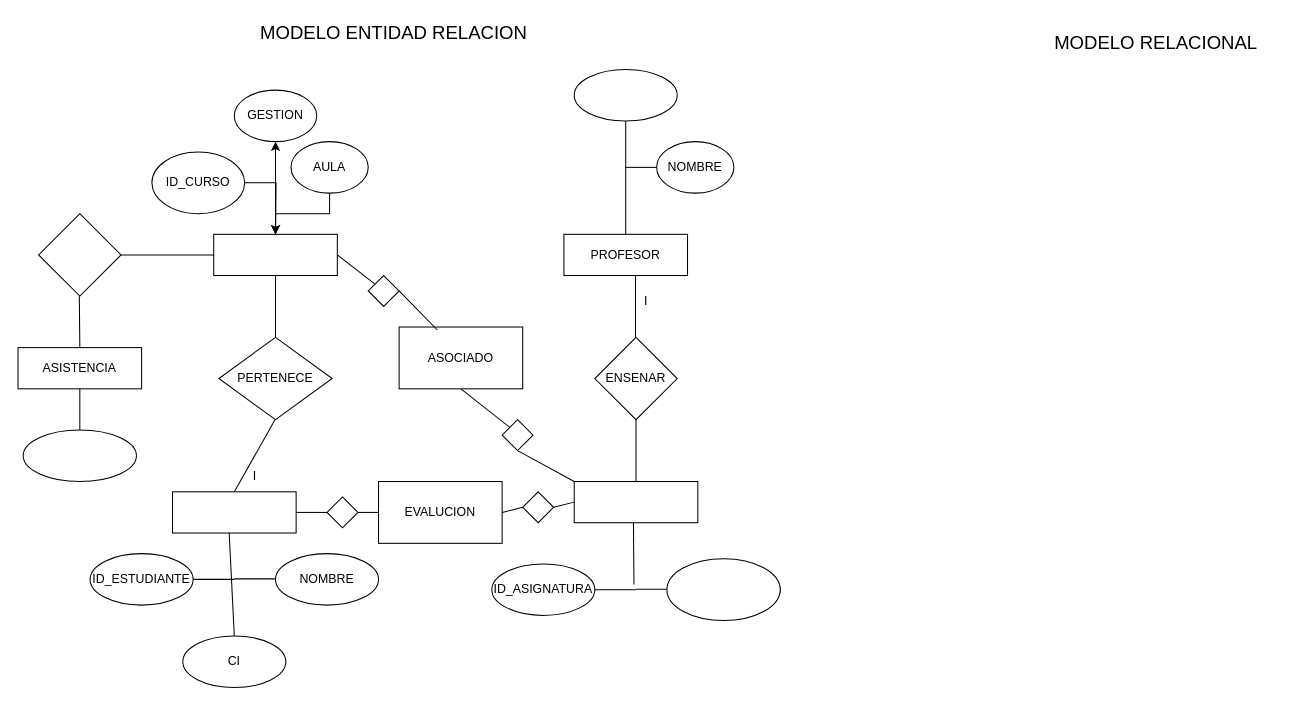
This 1313x706 diagram has some shape labels left out. Here are the shapes that lost their labels. From the top down, the centre of each, then its label:
At [625,94]: "ID_PROFESOR".
At [79,254]: "REGISTRO".
At [275,254]: "CURSO".
At [79,455]: "FECHA ID_ASISTENCIA".
At [233,512]: "ESTUDIANTE".
At [635,501]: "ASIGNATURA".
At [723,589]: "HORARIO".
